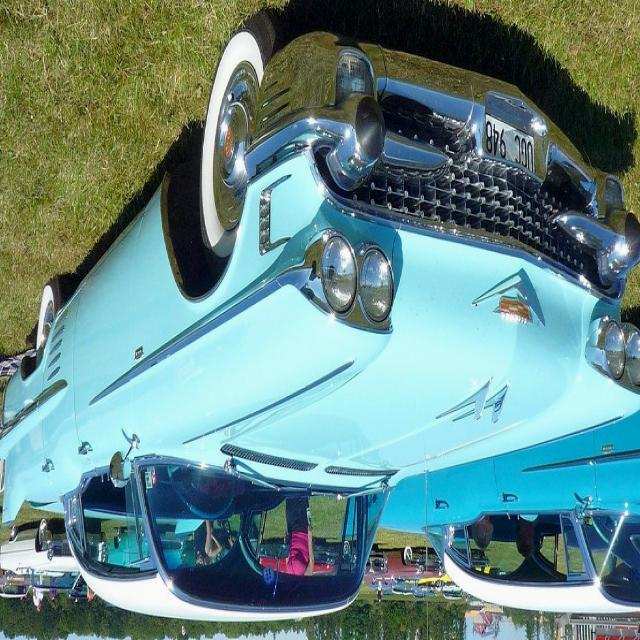blue: (0, 0, 615, 634)
